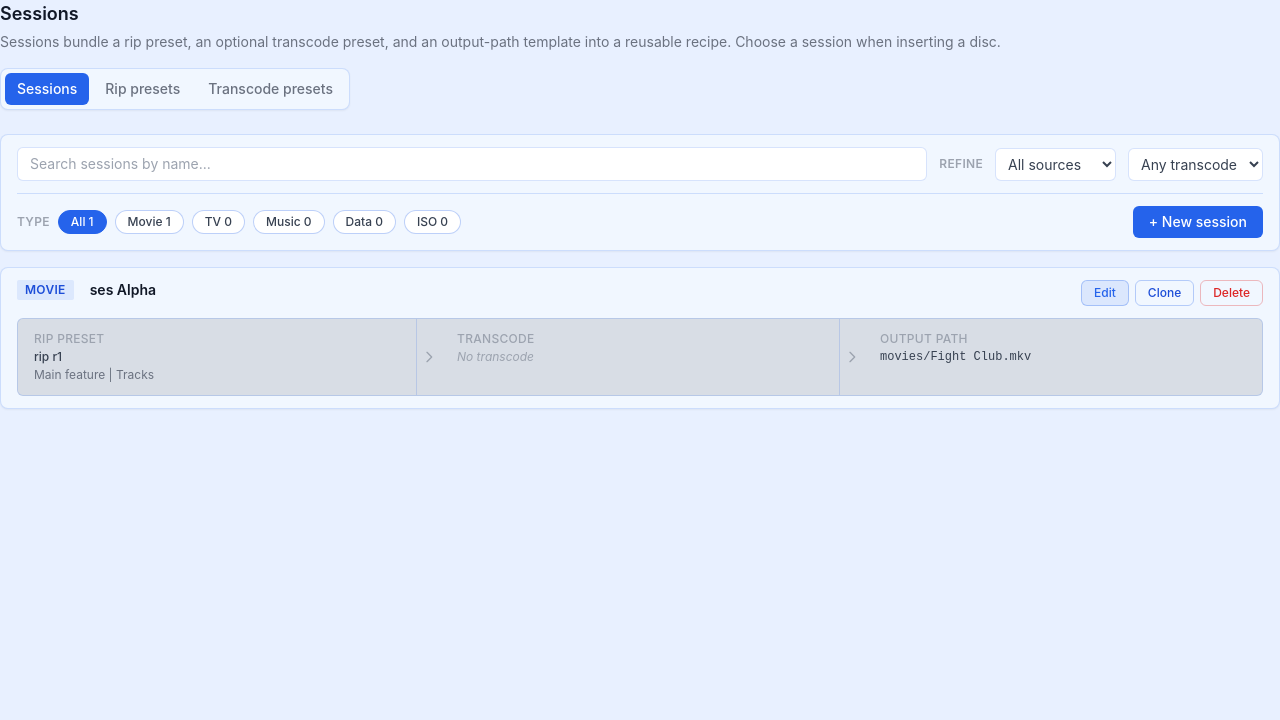
Test: new session opens the builder
The width and height of the screenshot is (1280, 720).
Step 1. Click the button "+ New session" → (1198, 222), box 1133,206 -> 1263,238
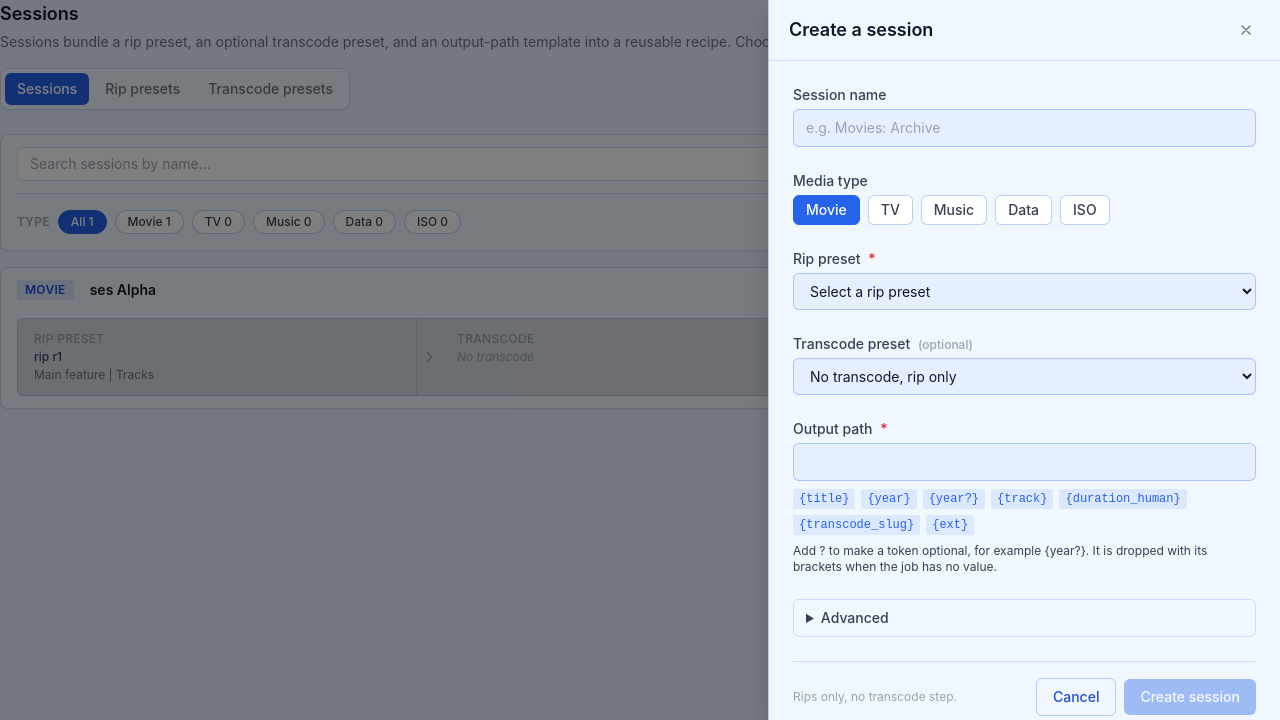
Now the heading "Create a session" is shown, box 789,16 -> 933,44
